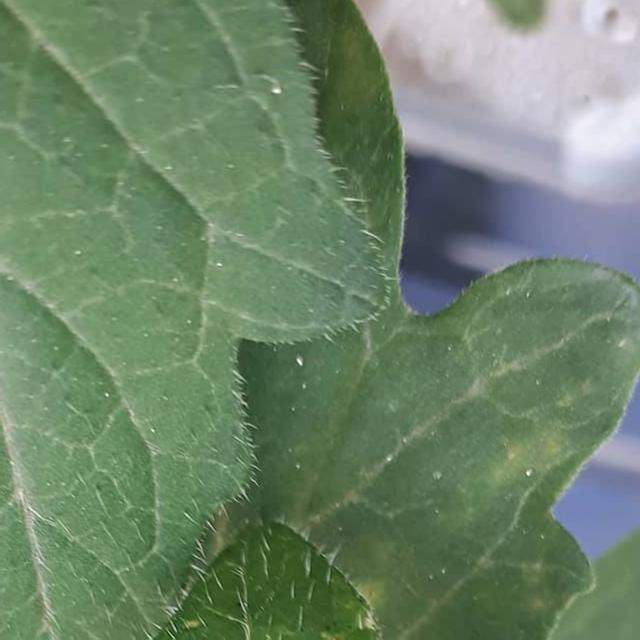Tomato mold leaf: (0, 0, 384, 640), (0, 501, 619, 640)
